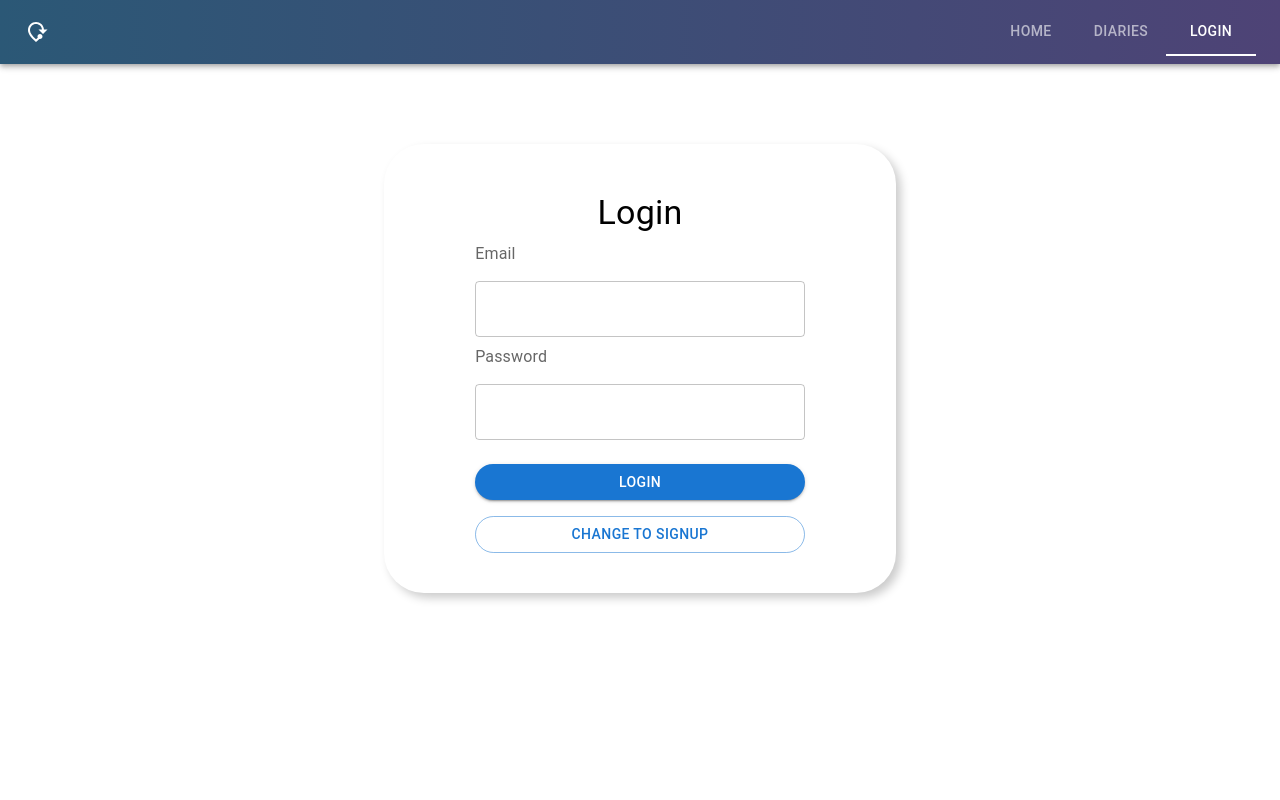
login returns the user to the page they were sent from
Type "anna@test.com" into the field labelled "Email" at (640, 309), box [475, 281, 805, 337]
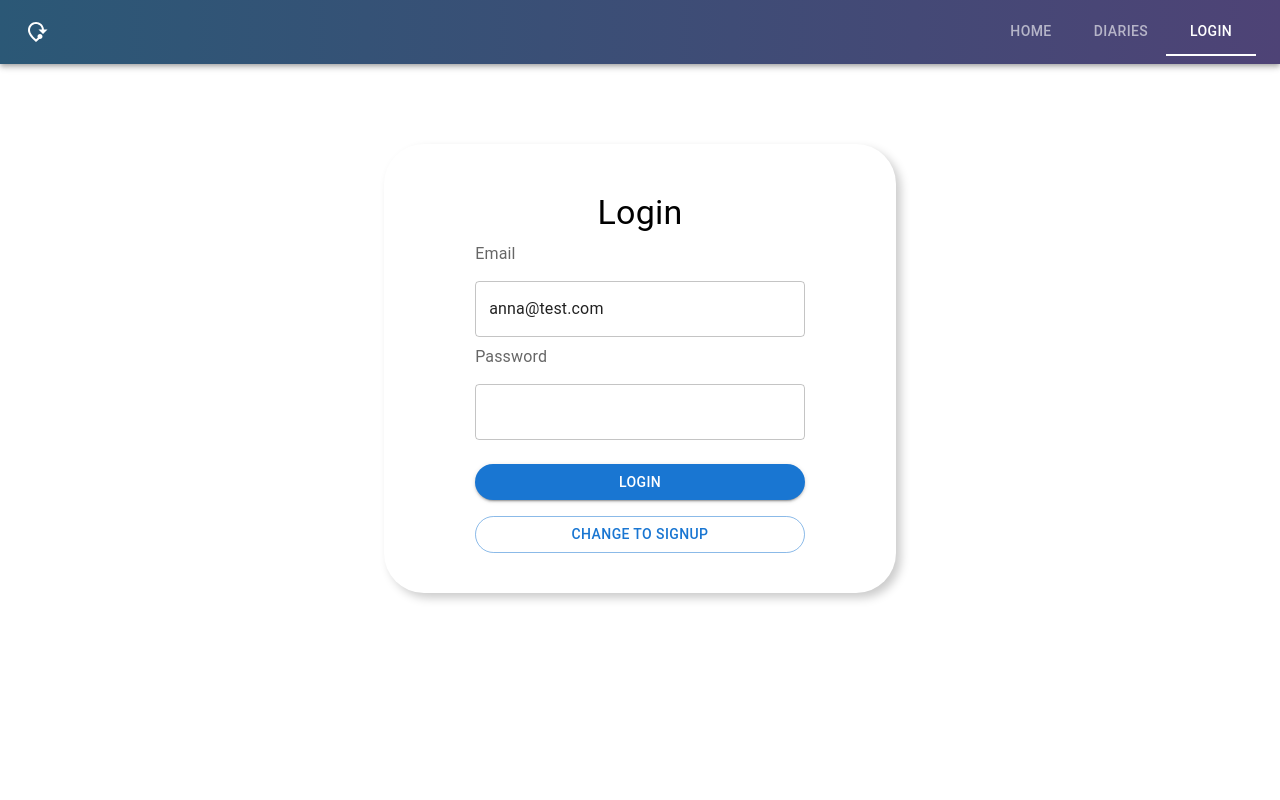
Type "secret1" into the password field labelled "Password" at (640, 412), box [475, 384, 805, 440]
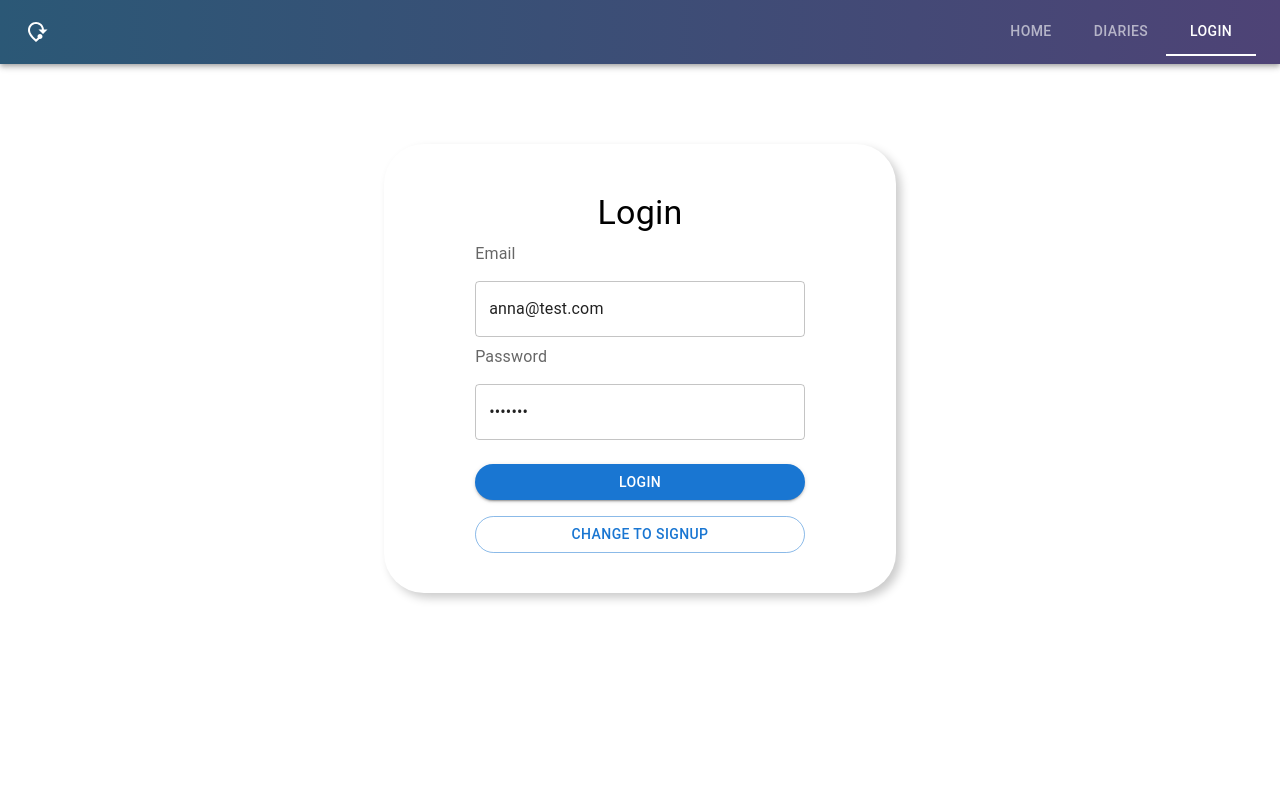
Click the button "Login" at (640, 482), box [475, 464, 805, 500]
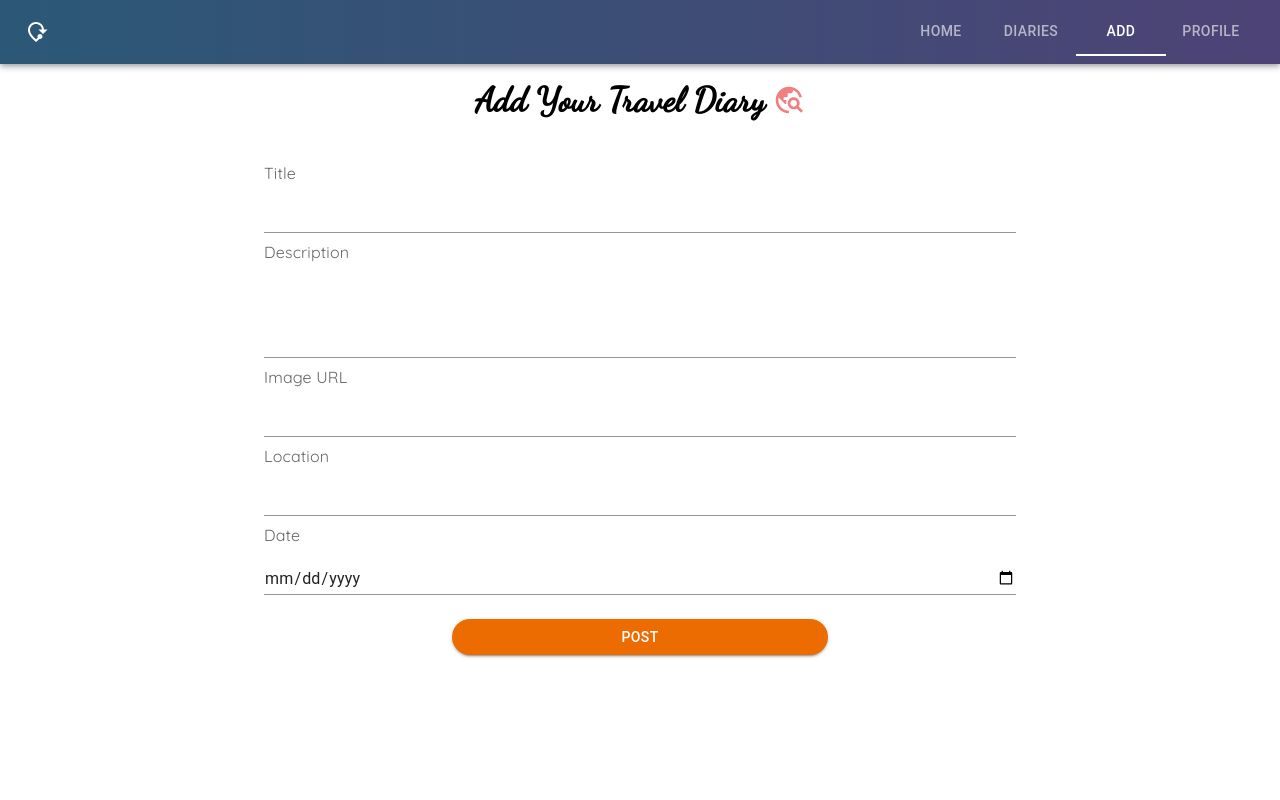
Expected: the heading "Add Your Travel Diary" is shown, [475, 80, 765, 122]
